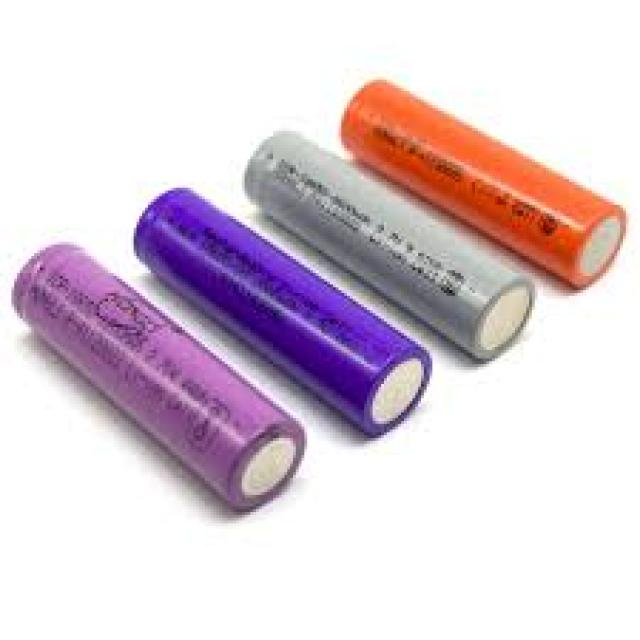Battery: (14, 245, 302, 506), (134, 191, 430, 435), (247, 139, 532, 358), (341, 82, 617, 284)
